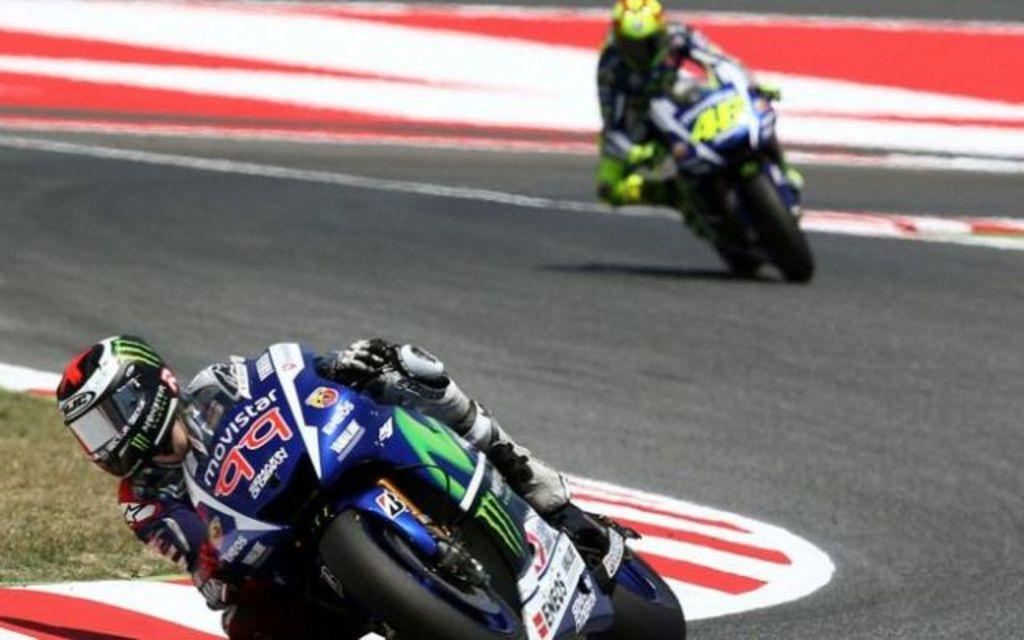helmet: (56, 334, 181, 479), (610, 0, 668, 74)
